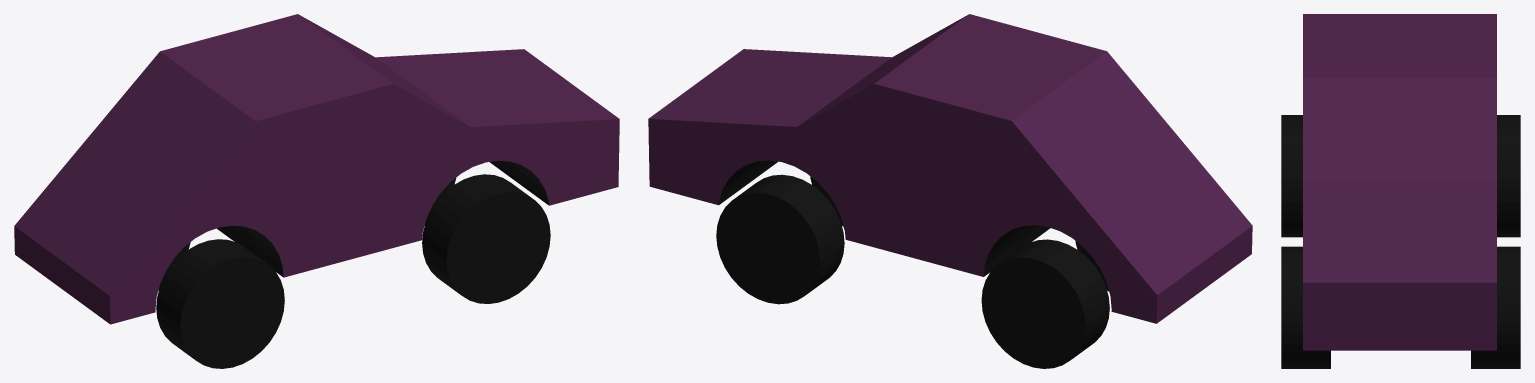
File: buggy.gltf
The picture shows the model from 3 angles, left to right: view 1: azimuth 30°, elevation 25°; view 2: azimuth 150°, elevation 25°; view 3: azimuth 270°, elevation 25°; orthographic projection.
Visible parts, largest first — view 1: BUGGY; view 2: BUGGY; view 3: BUGGY.
Part boxes in pixels (x1=…): BUGGY: x1=14, y1=14, x2=619, y2=368; BUGGY: x1=648, y1=14, x2=1252, y2=368; BUGGY: x1=1281, y1=14, x2=1520, y2=368.
Size of the model in its own units: 7.4 by 3.24 by 2.96.
